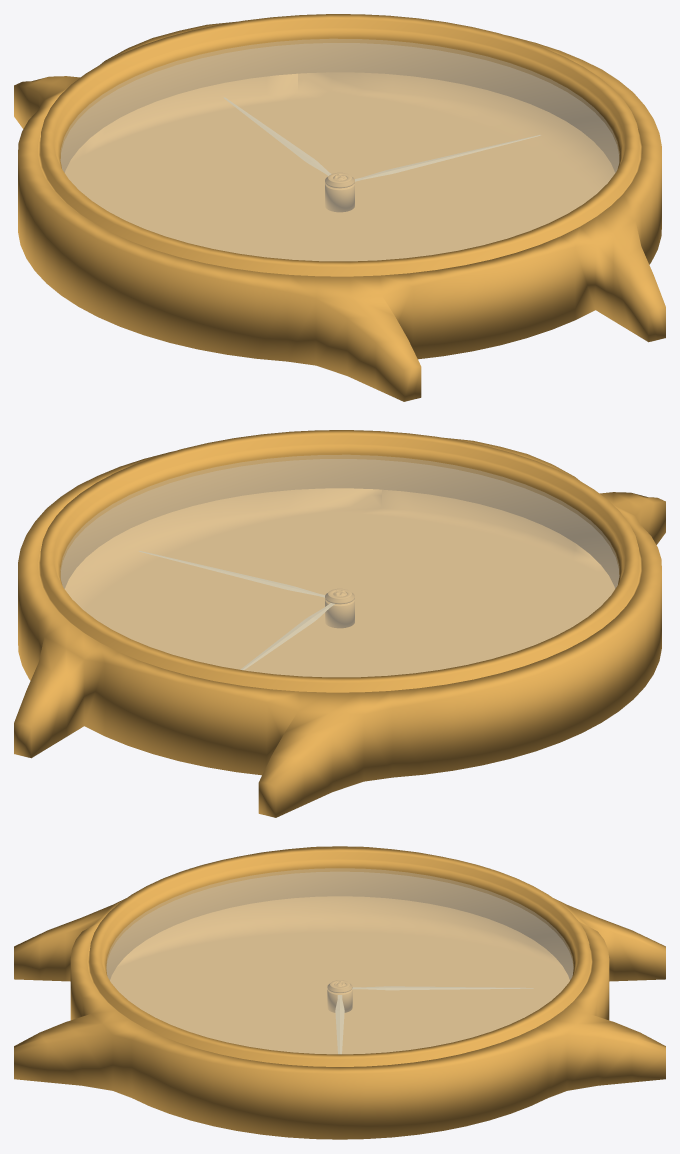
File: watch_body.glb
3 views of the same model, one above another, from view 1: azimuth 30°, elevation 25°; view 2: azimuth 150°, elevation 25°; view 3: azimuth 270°, elevation 25° (orthographic). The views are drawn at different scales.
Visible parts, largest first — view 1: watch_body, watch_body_glass; view 2: watch_body, watch_body_glass; view 3: watch_body, watch_body_glass.
Part boxes in pixels (x1=…): watch_body: x1=14, y1=14, x2=665, y2=401; watch_body_glass: x1=60, y1=39, x2=619, y2=260; watch_body: x1=14, y1=430, x2=665, y2=817; watch_body_glass: x1=60, y1=455, x2=619, y2=676; watch_body: x1=14, y1=846, x2=665, y2=1139; watch_body_glass: x1=106, y1=868, x2=573, y2=1053.
Bounding box in the file's own units: 1.62 × 0.2398 × 1.96.
